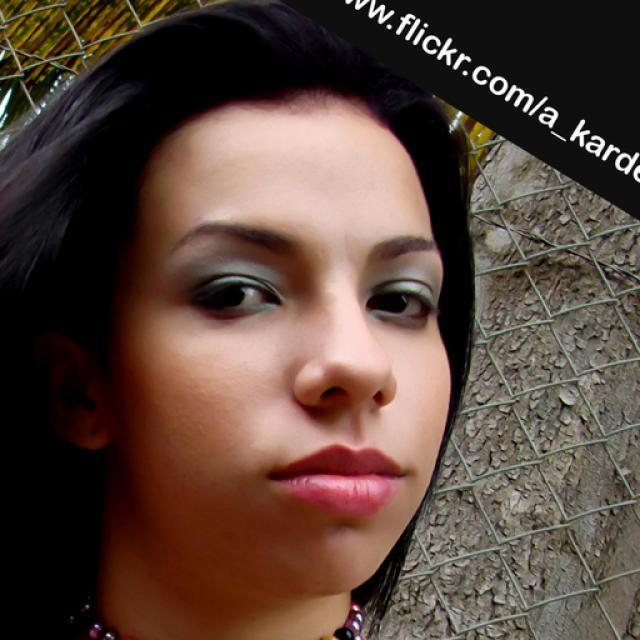neutral: (111, 92, 454, 590)
